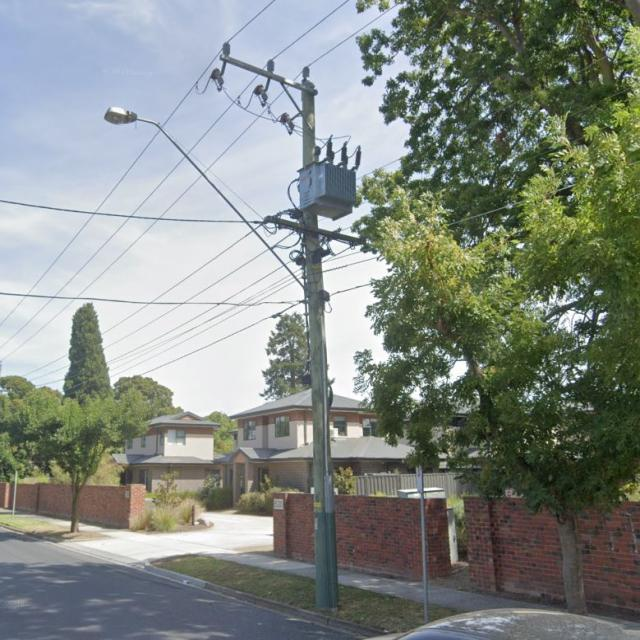HV-transmission: (210, 41, 318, 136)
crossarm: (218, 54, 317, 96), (266, 215, 366, 250)
streetlight: (103, 105, 310, 298)
timber-pole: (301, 76, 342, 606)
transformer: (297, 134, 363, 222)
